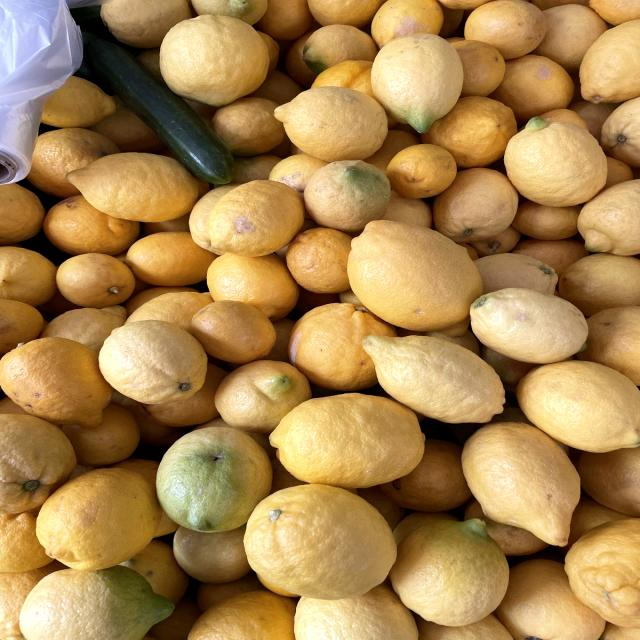lemon: (461, 406, 600, 551), (267, 390, 432, 491), (32, 459, 171, 574), (364, 327, 519, 428), (496, 99, 616, 209), (88, 310, 215, 413), (368, 24, 473, 139), (63, 145, 208, 226), (45, 250, 139, 307)
